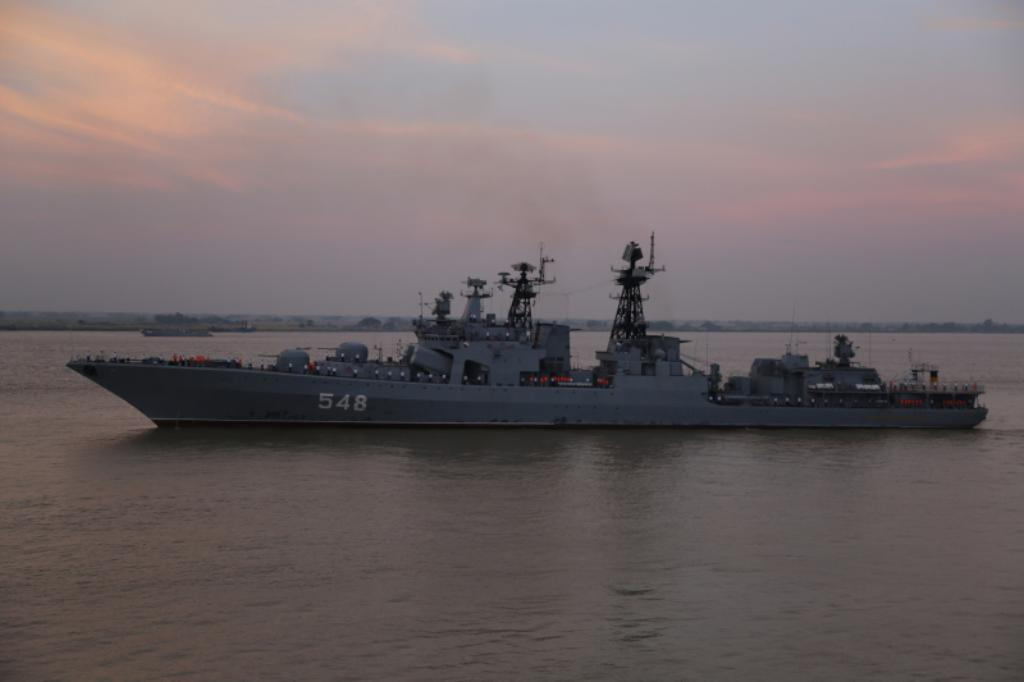Warship: (60, 225, 996, 435)
